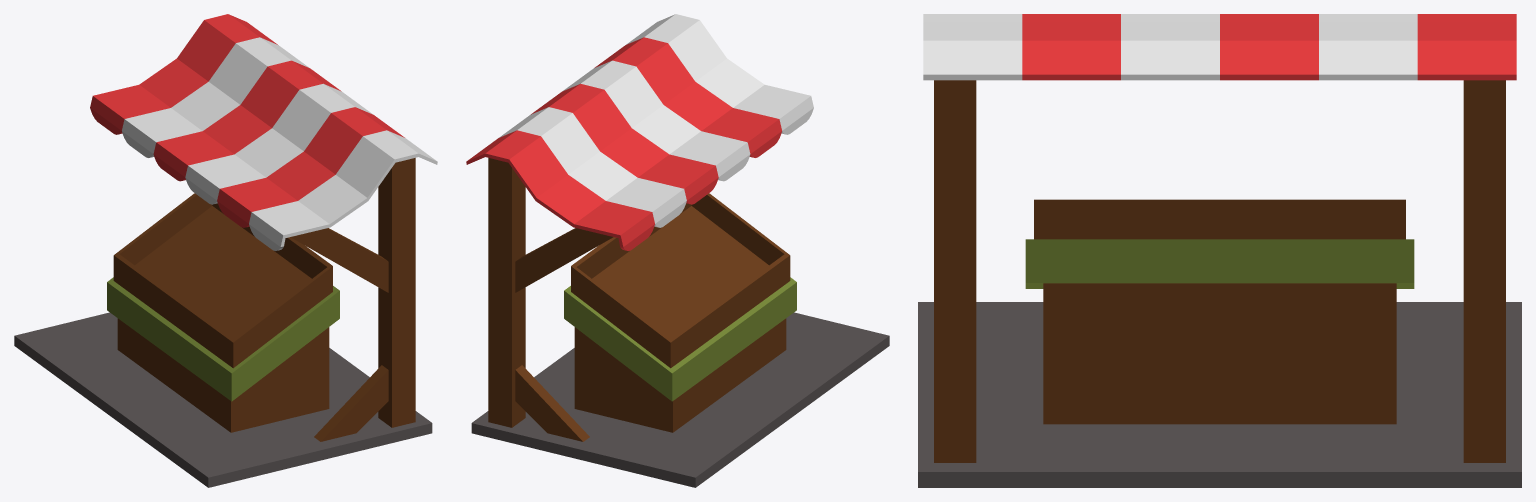
File: counter.fbx
3 views of the same model, side by side, from view 1: azimuth 30°, elevation 25°; view 2: azimuth 150°, elevation 25°; view 3: azimuth 270°, elevation 25° (orthographic). The views are drawn at different scales.
Parts seen in each view (by area): view 1: Cube.001, Cube, Plane; view 2: Cube.001, Cube, Plane; view 3: Cube, Cube.001, Plane.
Part boxes in pixels (x1,y1,x2,y2): Cube.001: [90, 14, 437, 441]; Cube: [107, 193, 339, 432]; Plane: [14, 312, 432, 487]; Cube.001: [466, 14, 813, 441]; Cube: [564, 193, 796, 432]; Plane: [471, 312, 889, 487]; Cube: [1025, 199, 1414, 424]; Cube.001: [923, 14, 1516, 462]; Plane: [918, 302, 1521, 487].
Bounding box in the file's own units: 470 × 548 × 684.
